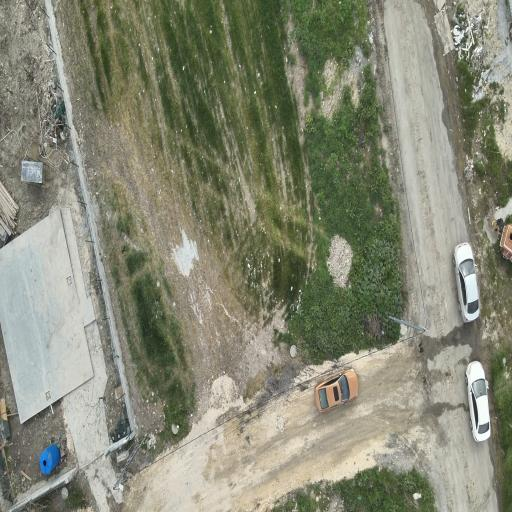car: (453, 243, 479, 322), (466, 361, 490, 441), (315, 367, 358, 411)
